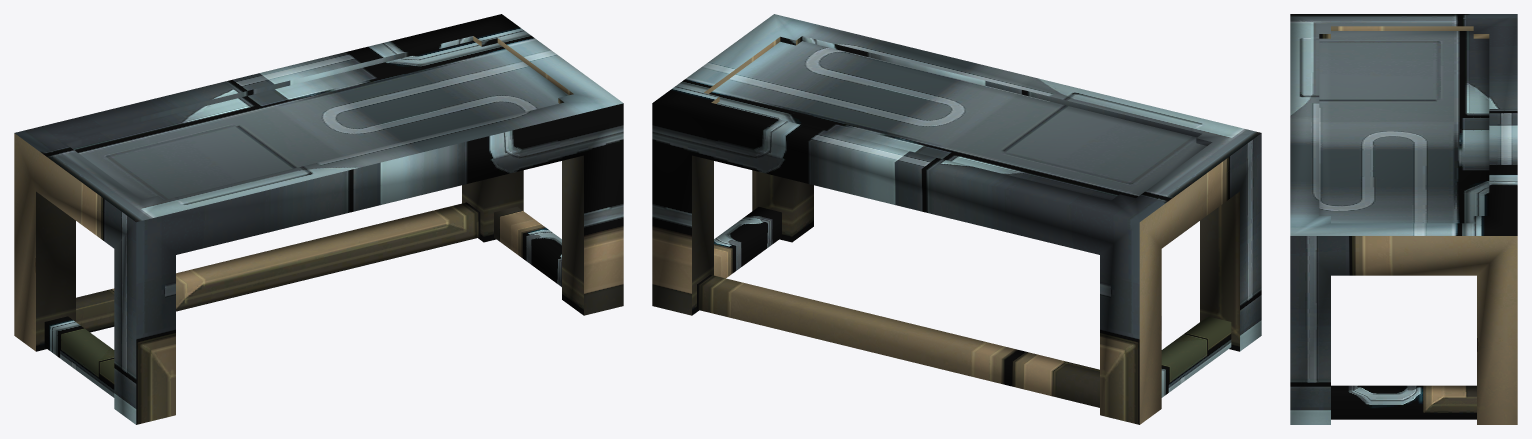
File: table2.glb
The picture shows the model from 3 angles, left to right: view 1: azimuth 30°, elevation 25°; view 2: azimuth 150°, elevation 25°; view 3: azimuth 270°, elevation 25°; orthographic projection. The views are drawn at different scales.
Visible parts, largest first — view 1: Box13; view 2: Box13; view 3: Box13.
Boxes of the visible parts, x1,y1,x2,y2 form: Box13: [14, 14, 623, 424]; Box13: [652, 14, 1261, 424]; Box13: [1290, 14, 1517, 424].
Size of the model in its own units: 79.11 by 31.43 by 34.28.
1 material, 1 textured.
